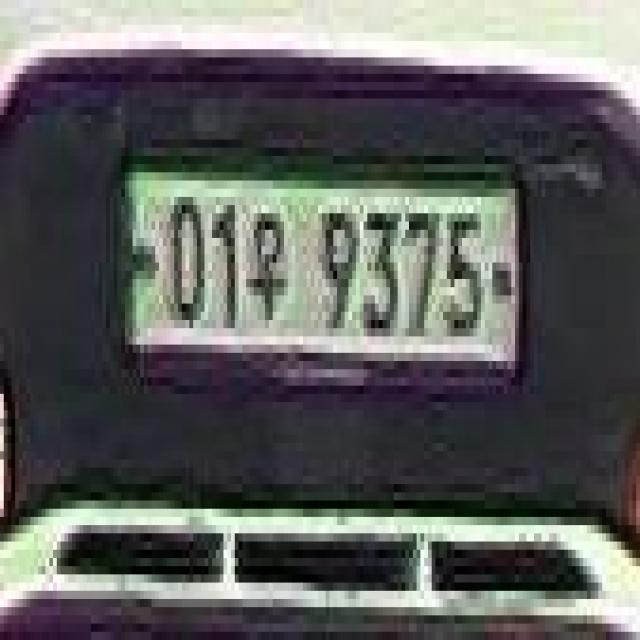illegal_plate: (116, 144, 526, 402)
